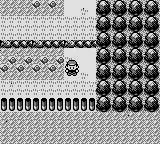main: (65, 60, 79, 76)
no-caminable: (96, 0, 159, 112), (0, 97, 96, 111)
salto: (0, 40, 95, 48)
